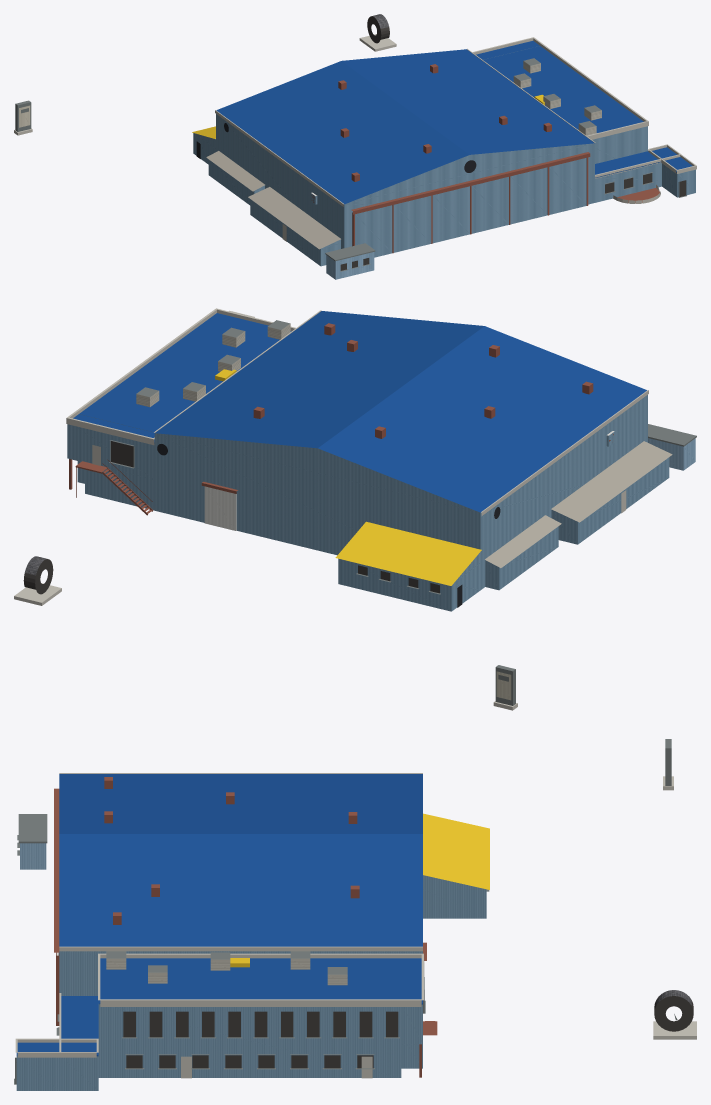
The model's file is cyxd_hangar30_lod1.gltf.
3 renders of one model, top to bottom at view 1: azimuth 30°, elevation 25°; view 2: azimuth 150°, elevation 25°; view 3: azimuth 270°, elevation 25°, orthographic. The views are drawn at different scales.
Visible parts, largest first — view 1: cyxd_hangar30; view 2: cyxd_hangar30; view 3: cyxd_hangar30.
Boxes of the visible parts, bbox=[...] form: cyxd_hangar30: bbox=[14, 14, 696, 279]; cyxd_hangar30: bbox=[14, 308, 696, 710]; cyxd_hangar30: bbox=[14, 739, 696, 1090].
Bounding box in the file's own units: 67.2 × 11.68 × 62.34.
